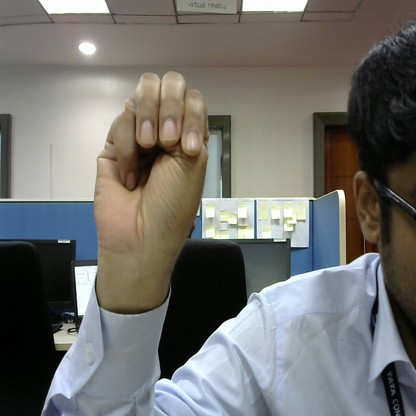m: (88, 67, 212, 278)
